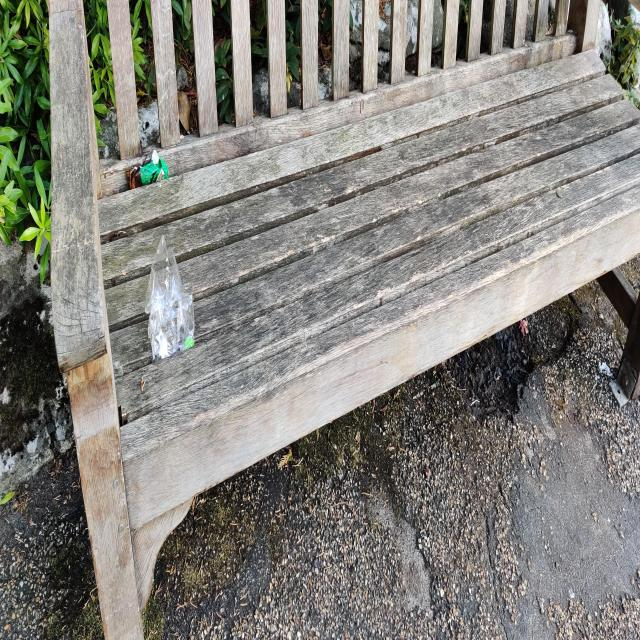litter: (123, 140, 196, 366)
